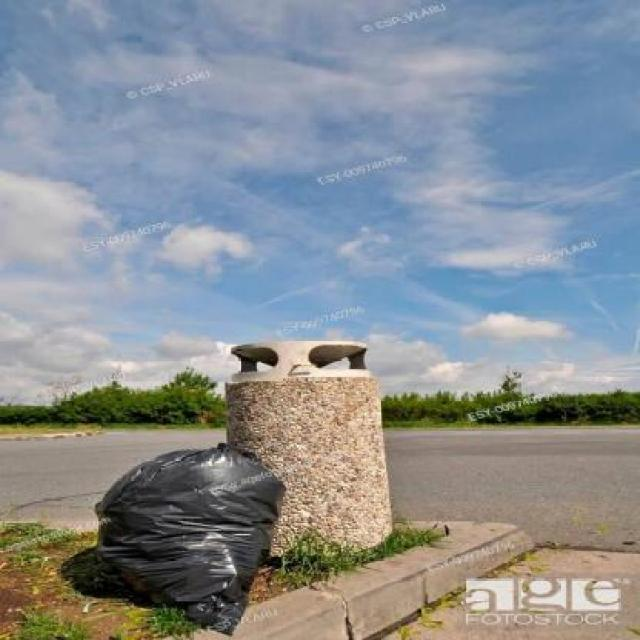garbage: (83, 442, 290, 625)
